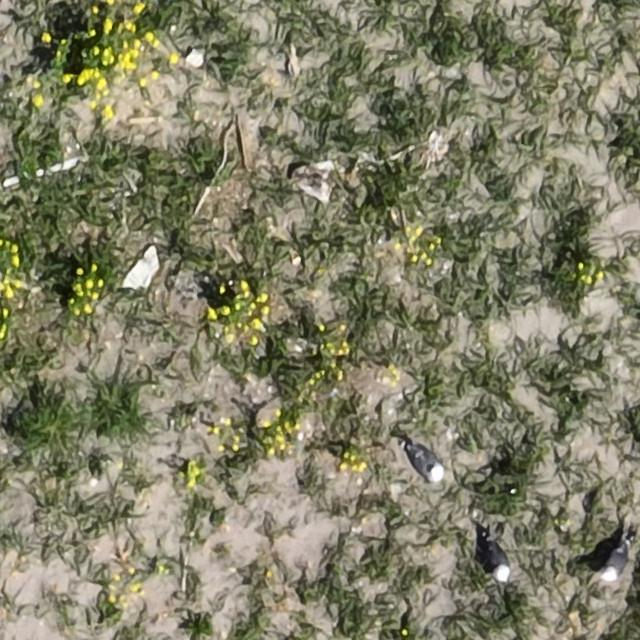umineko: (411, 449, 443, 482), (604, 543, 627, 580), (491, 543, 512, 580)
